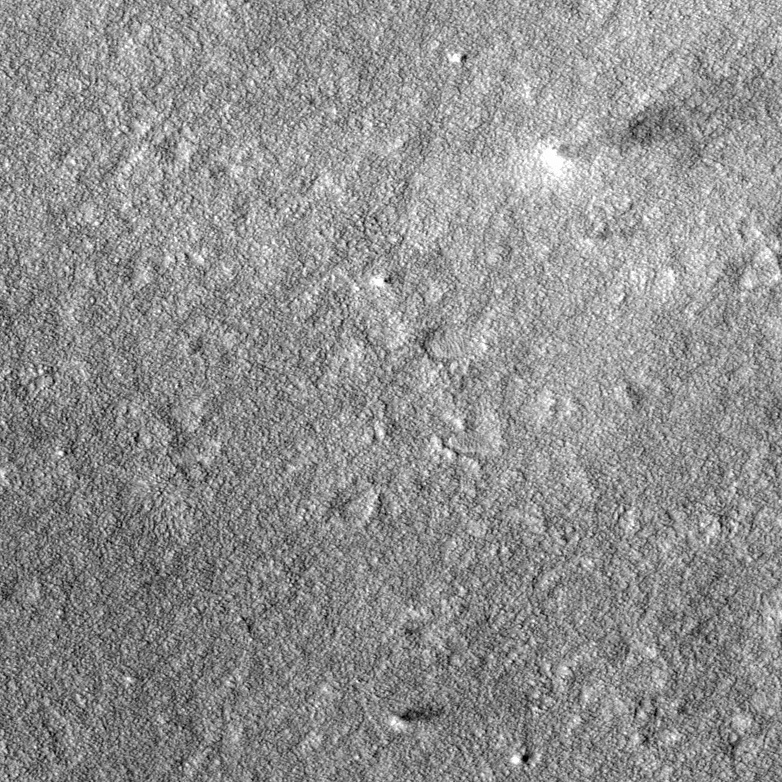dust_devil: (535, 102, 685, 180), (382, 702, 449, 735)
